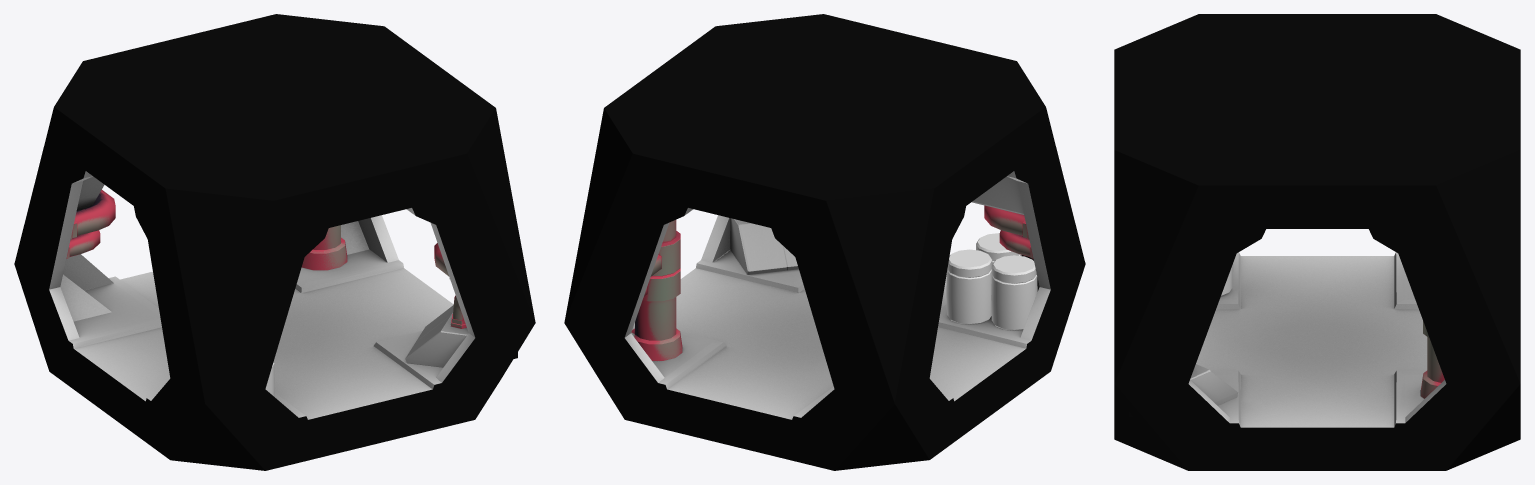
Rendered from mod_Cross.glb.
3 renders of one model, left to right at view 1: azimuth 30°, elevation 25°; view 2: azimuth 150°, elevation 25°; view 3: azimuth 270°, elevation 25°, orthographic. The views are drawn at different scales.
Parts seen in each view (by area): view 1: Plane.096, Plane.077, Plane.078; view 2: Plane.096, Plane.078, Cylinder.083, Cylinder.082, Plane.077, Cylinder.081; view 3: Plane.096, Plane.078.
Part boxes in pixels (bbox=[...]): Plane.096: bbox=[14, 14, 535, 470]; Plane.077: bbox=[66, 190, 449, 278]; Plane.078: bbox=[302, 225, 347, 270]; Plane.096: bbox=[564, 14, 1085, 470]; Plane.078: bbox=[631, 220, 682, 360]; Cylinder.083: bbox=[946, 249, 992, 324]; Cylinder.082: bbox=[991, 255, 1037, 330]; Plane.077: bbox=[984, 205, 1033, 258]; Cylinder.081: bbox=[976, 233, 1021, 264]; Plane.096: bbox=[1114, 14, 1520, 470]; Plane.078: bbox=[1421, 321, 1444, 398].
Bounding box in the file's own units: 5 × 3.88 × 5.
2 materials, 2 textured.
